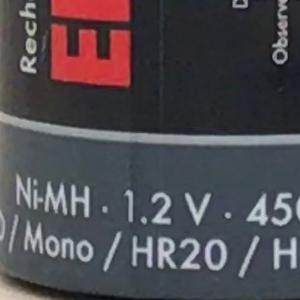keyword: (123, 230, 235, 277)
